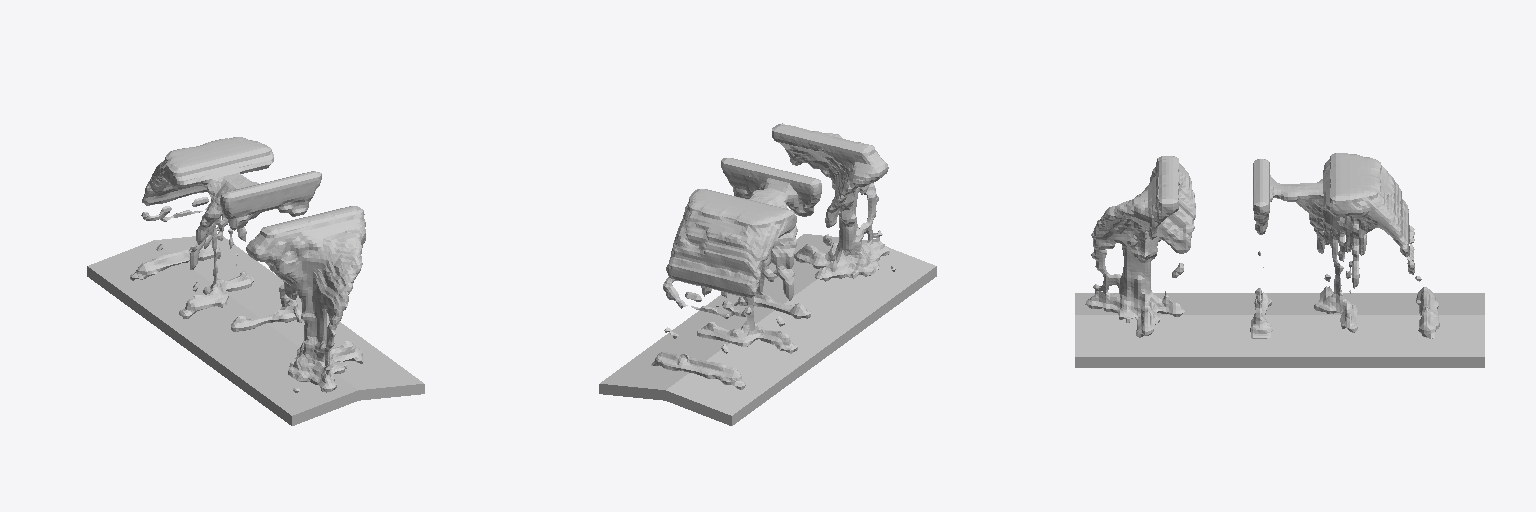
Rendered from Watersim_000021.obj.
The picture shows the model from 3 angles: view 1: azimuth 30°, elevation 25°; view 2: azimuth 150°, elevation 25°; view 3: azimuth 270°, elevation 25°; orthographic projection.
Visible parts, largest first — view 1: Domain_Cube.006, Straße_Cube.007; view 2: Domain_Cube.006, Straße_Cube.007; view 3: Straße_Cube.007, Domain_Cube.006.
Boxes of the visible parts, box(x1,y1,x2,y2) form: Domain_Cube.006: box(130, 137, 365, 392); Straße_Cube.007: box(87, 236, 424, 425); Domain_Cube.006: box(651, 123, 895, 389); Straße_Cube.007: box(599, 234, 936, 425); Straße_Cube.007: box(1075, 293, 1484, 367); Domain_Cube.006: box(1085, 153, 1439, 338).
Bounding box in the file's own units: 2.26 × 2.59 × 6.06.